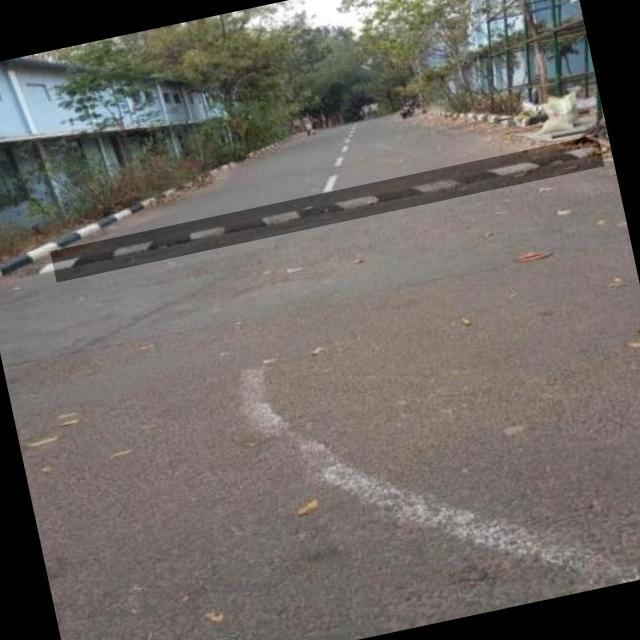bump: (50, 134, 604, 282)
